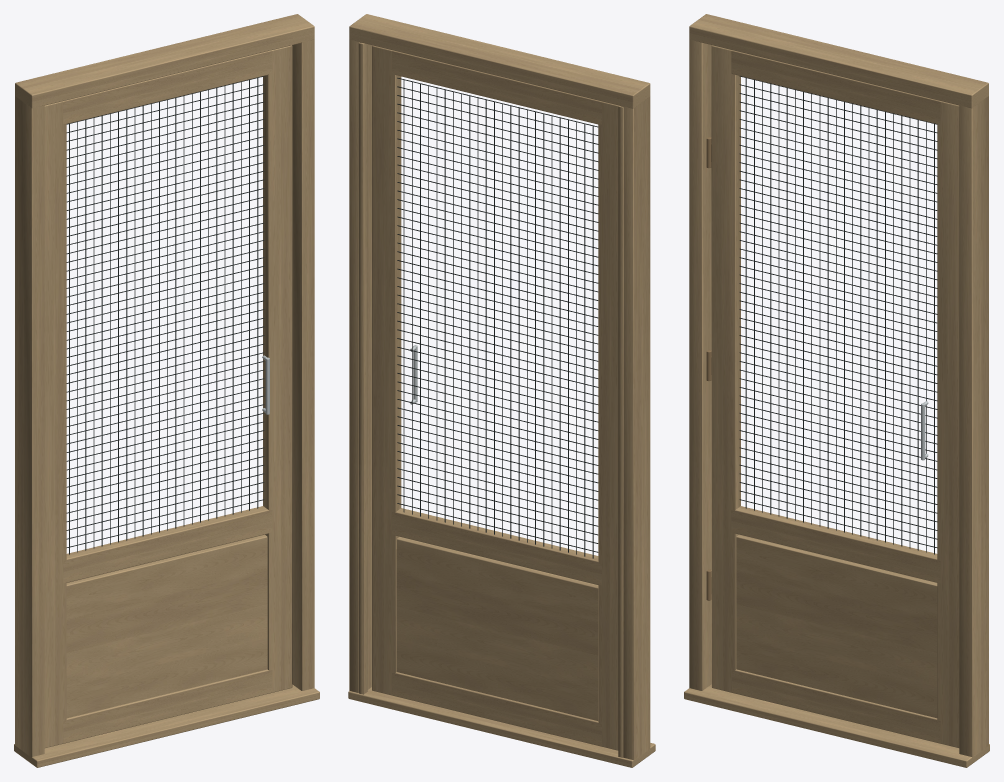
The model's file is breeze-mesh-screen-door.glb.
3 renders of one model, left to right at view 1: azimuth 30°, elevation 25°; view 2: azimuth 150°, elevation 25°; view 3: azimuth 330°, elevation 25°, orthographic.
Visible parts, largest first — view 1: Screen | woven wire grid, Screen door | kick panel, Frame | jamb, Screen door | stile.001, Frame | jamb.001, Screen door | stile, Frame | header, Screen door | rail.001, Screen door | rail, Frame | sill, Screen door | rail.002; view 2: Screen | woven wire grid, Screen door | kick panel, Frame | jamb, Screen door | stile.001, Screen door | stile, Frame | jamb.001, Frame | header, Frame | door stop.001, Screen door | rail.001, Screen door | rail, Screen door | rail.002, Frame | sill (+1 smaller); view 3: Screen | woven wire grid, Screen door | kick panel, Frame | jamb.001, Screen door | stile, Screen door | stile.001, Frame | jamb, Frame | header, Screen door | rail.001, Screen door | rail, Frame | sill, Screen door | rail.002.
Part boxes in pixels (x1,y1,x2,y2): Screen | woven wire grid: (66, 76, 264, 554); Screen door | kick panel: (66, 534, 267, 718); Frame | jamb: (15, 83, 44, 763); Screen door | stile.001: (263, 45, 292, 692); Frame | jamb.001: (292, 26, 314, 690); Screen door | stile: (44, 100, 66, 747); Frame | header: (15, 14, 314, 107); Screen door | rail.001: (63, 506, 272, 582); Screen door | rail: (63, 669, 272, 743); Frame | sill: (14, 684, 319, 767); Screen door | rail.002: (63, 50, 272, 124); Screen | woven wire grid: (397, 77, 598, 558); Screen door | kick panel: (396, 537, 598, 720); Frame | jamb: (621, 84, 650, 761); Screen door | stile.001: (372, 45, 401, 695); Screen door | stile: (598, 101, 618, 750); Frame | jamb.001: (349, 26, 371, 692); Frame | header: (349, 14, 650, 108); Frame | door stop.001: (358, 42, 367, 694); Screen door | rail.001: (392, 508, 601, 585); Screen door | rail: (392, 672, 601, 746); Screen door | rail.002: (392, 50, 601, 124); Frame | sill: (348, 687, 655, 767); Screen | woven wire grid: (739, 76, 937, 554); Screen door | kick panel: (736, 534, 937, 718); Frame | jamb.001: (959, 83, 988, 763); Screen door | stile: (711, 45, 740, 692); Screen door | stile.001: (937, 100, 959, 747); Frame | jamb: (689, 27, 711, 690); Frame | header: (689, 14, 988, 108); Screen door | rail.001: (731, 506, 940, 582); Screen door | rail: (731, 669, 940, 743); Frame | sill: (684, 684, 989, 767); Screen door | rail.002: (731, 50, 940, 124).
Bounding box in the file's own units: 0.937 × 2.12 × 0.1339.
Materials: 5 (5 with a texture image).
